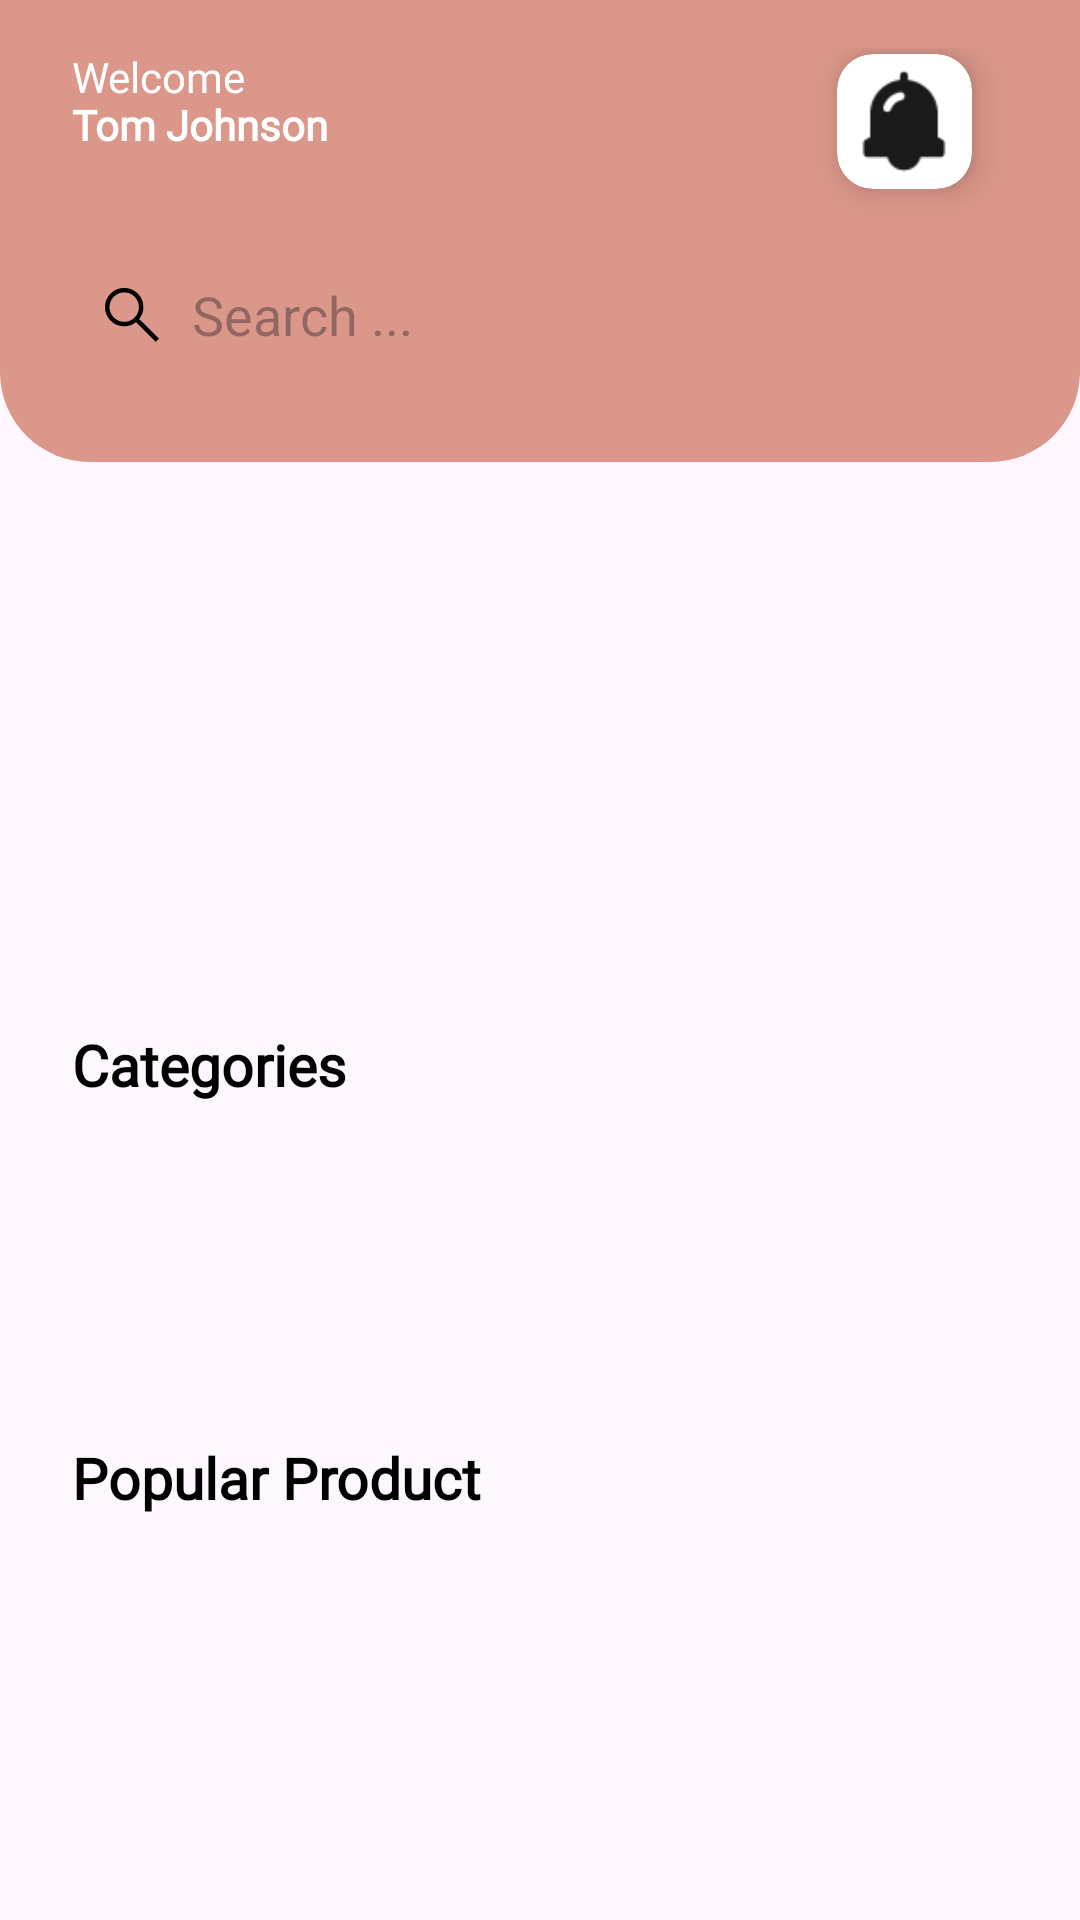

Locate icon controls on the screen. Image size 1080×1920, boxes as (x1, y1, x2, y2).
bildirim: (862, 71, 946, 172)
